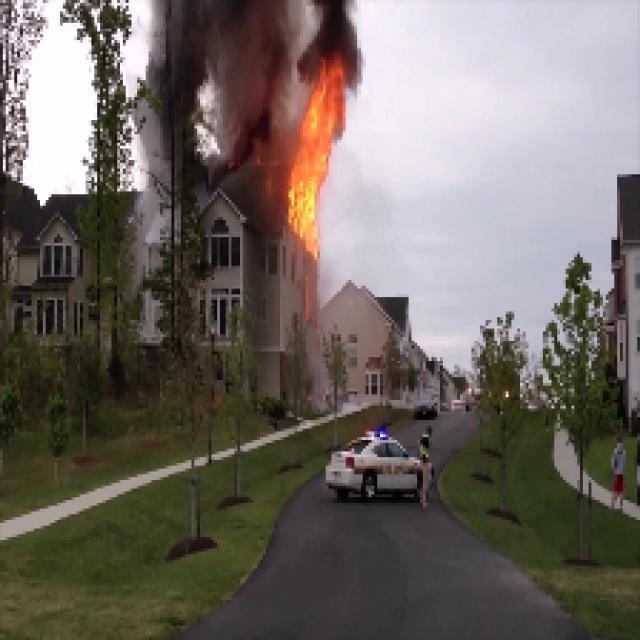Fire: (286, 74, 344, 242)
Smoke: (154, 0, 290, 143), (315, 0, 367, 64)
